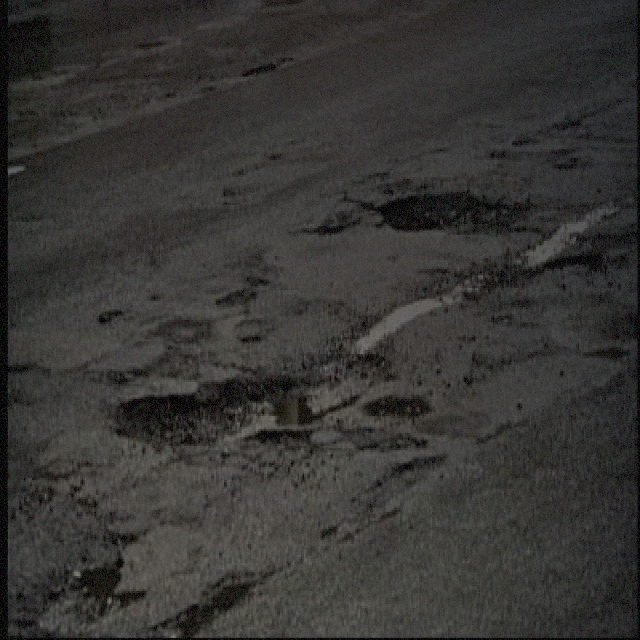pothole: (112, 342, 395, 454), (376, 188, 533, 239), (148, 567, 262, 636), (45, 555, 147, 629)
